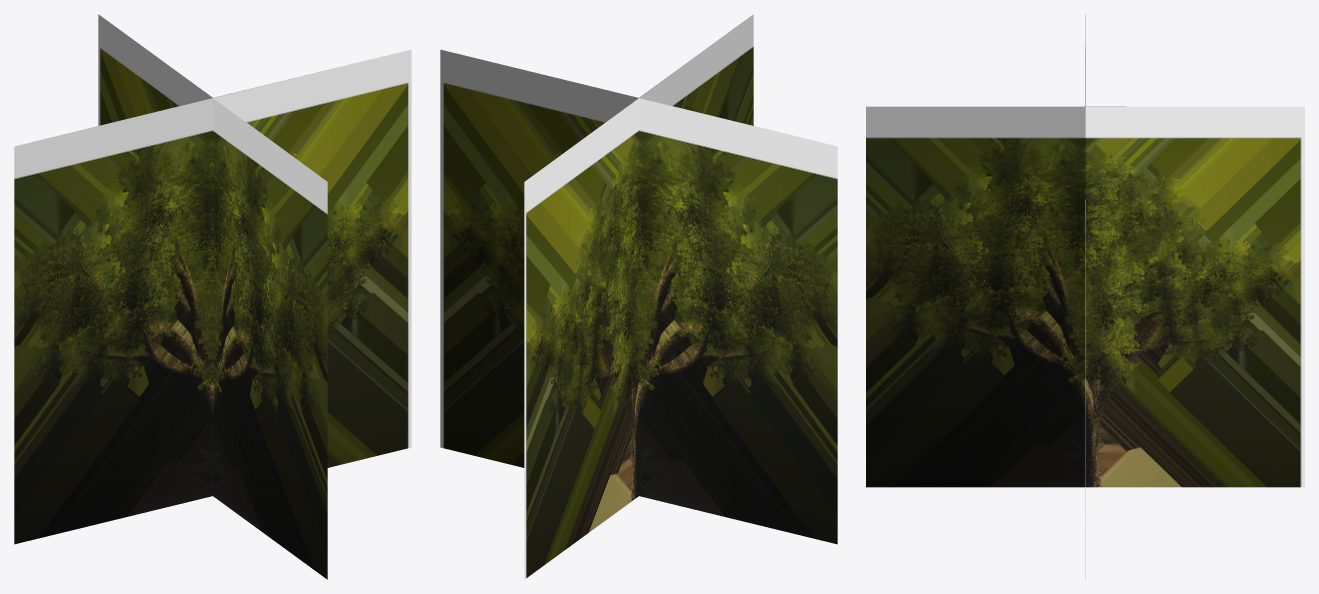
The model's file is Northern_Red_Oak_Fan_0.obj.
3 views of the same model, side by side, from view 1: azimuth 30°, elevation 25°; view 2: azimuth 150°, elevation 25°; view 3: azimuth 270°, elevation 25° (orthographic). The views are drawn at different scales.
Parts seen in each view (by area): view 1: CreateFan; view 2: CreateFan; view 3: CreateFan.
Part boxes in pixels (x1,y1,x2,y2): CreateFan: (14, 14, 411, 579); CreateFan: (440, 14, 837, 579); CreateFan: (866, 14, 1304, 579).
Size of the model in its own units: 25.1 by 24 by 25.1.
Materials: 1 (1 with a texture image).
